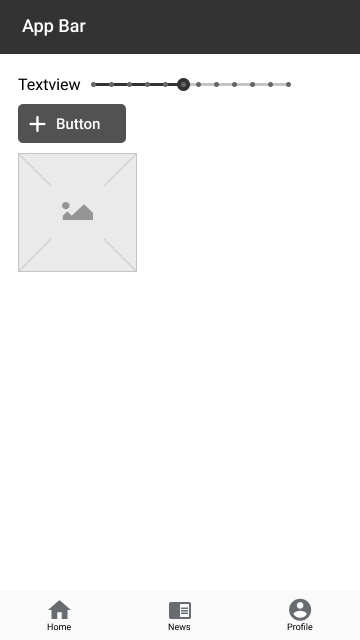button: (16, 100, 128, 148)
imageView: (14, 150, 141, 274)
navigationButton: (1, 596, 358, 639)
slider: (89, 77, 296, 92)
textView: (16, 73, 85, 94)
toolbar: (1, 1, 359, 52)
